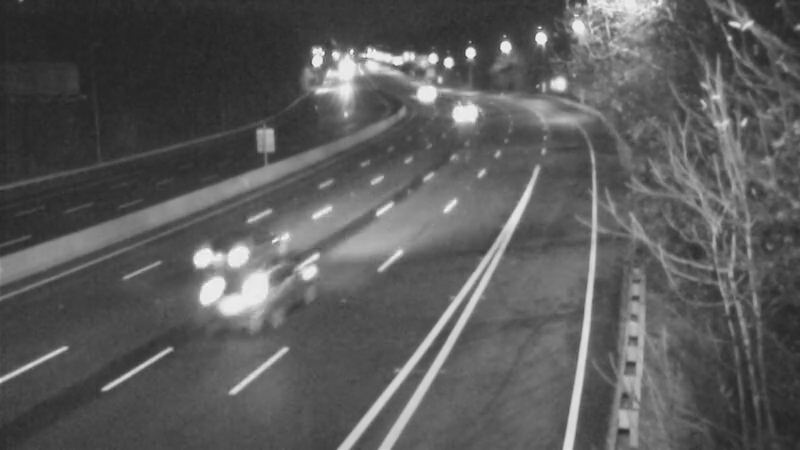vehicle: (202, 206, 282, 286), (191, 253, 271, 333), (394, 66, 444, 116), (434, 84, 484, 134)
